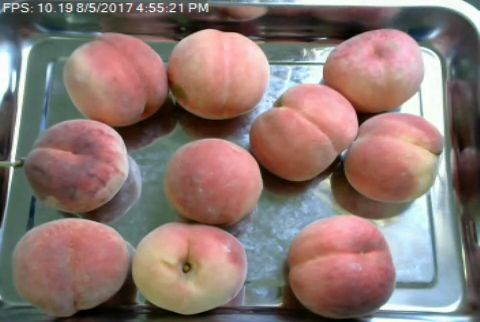Peach: (12, 216, 128, 316), (286, 215, 396, 319), (249, 82, 358, 181), (134, 222, 246, 316), (25, 118, 129, 213), (64, 32, 168, 127), (168, 26, 270, 120), (341, 112, 444, 203), (320, 25, 424, 115), (164, 138, 262, 225)
